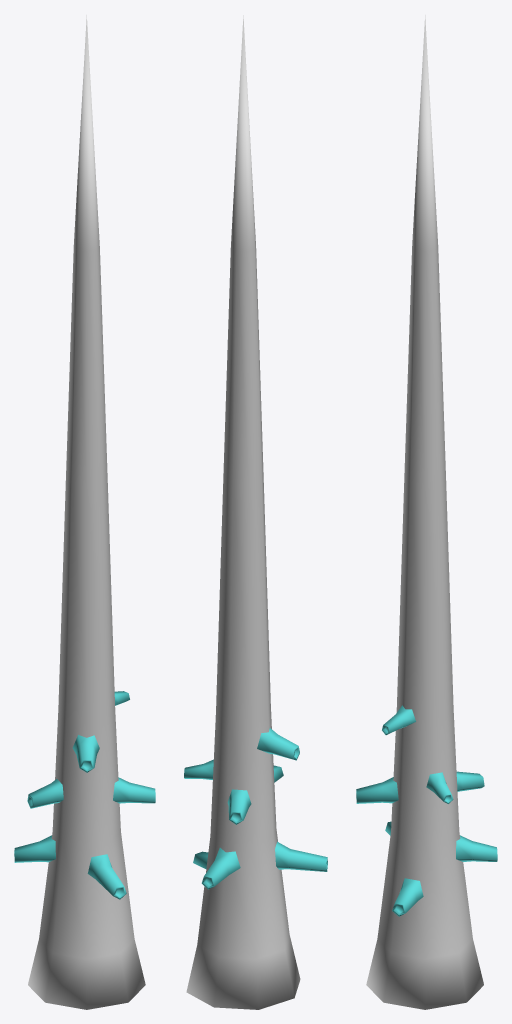
Rendered from Tronco1.fbx.
3 views of the same model, side by side, from view 1: azimuth 90°, elevation 25°; view 2: azimuth 150°, elevation 25°; view 3: azimuth 270°, elevation 25° (orthographic).
Visible parts, largest first — view 1: LPW_Tree_A1_6.5m_01.001; view 2: LPW_Tree_A1_6.5m_01.001; view 3: LPW_Tree_A1_6.5m_01.001.
Part boxes in pixels (left/top/right/bottom): LPW_Tree_A1_6.5m_01.001: left=14, top=15, right=155, bottom=1009; LPW_Tree_A1_6.5m_01.001: left=184, top=15, right=327, bottom=1009; LPW_Tree_A1_6.5m_01.001: left=356, top=15, right=497, bottom=1009.
Size of the model in its own units: 159 by 1136 by 150.
